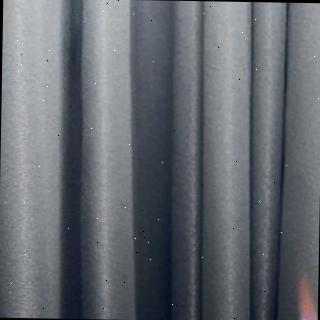fire: (293, 274, 318, 320)
